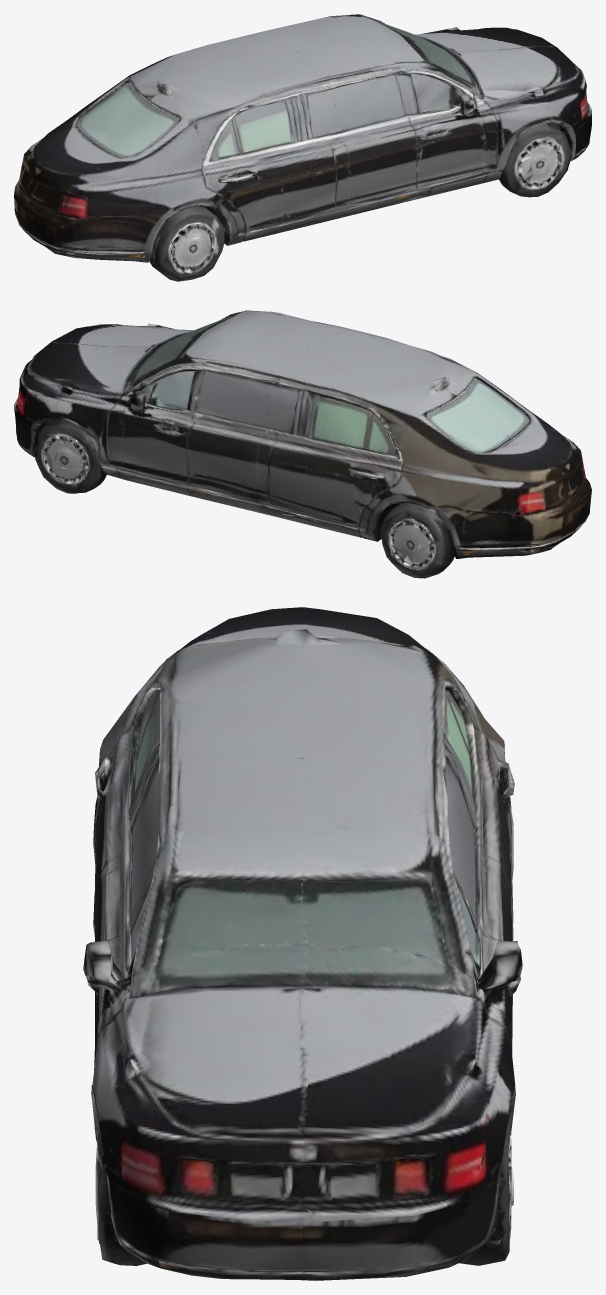
The model's file is transport-03.glb.
The picture shows the model from 3 angles, top to bottom: view 1: azimuth 30°, elevation 25°; view 2: azimuth 150°, elevation 25°; view 3: azimuth 270°, elevation 25°; orthographic projection. The views are drawn at different scales.
Size of the model in its own units: 1.97 by 0.5492 by 0.6975.
1 material, 1 textured.
